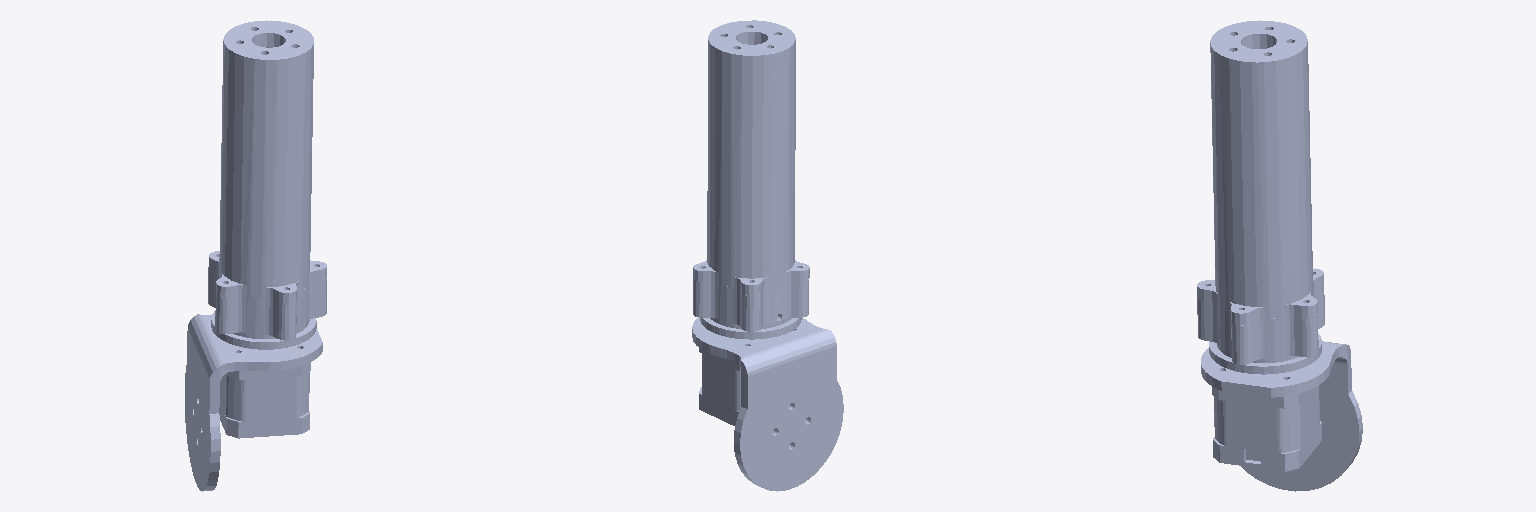
The robot description file, URDF, robot "six_dof_arm":
<?xml version="1.0" encoding="utf-8"?>
<!-- This URDF was automatically created by SolidWorks to URDF Exporter! Originally created by [author] ([email redacted]) 
     Commit Version: 1.6.0-1-g15f4949  Build Version: 1.6.7594.29634
     For more information, please see http://wiki.ros.org/sw_urdf_exporter -->
<robot
  name="six_dof_arm">

  <link name="world"/>
  <joint name="world_to_base" type="fixed">
  <parent link="world"/>
  <child link="base_link"/>
  </joint>
  <!-- ================================== bl ================================== -->
  <link
    name="base_link">
    <!-- ============================================= OG ================ -->
    <inertial>
      <origin
        xyz="0.0030404383928407 0.0904610846598891 0.000313504501162996"
        rpy="0 0 0" />
      <mass
        value="2.17387509158524" />
      <inertia
        ixx="0.00596956325220107"
        ixy="-7.23777863509948E-07"
        ixz="-3.38216714723813E-06"
        iyy="0.00952386374829906"
        iyz="-7.3243407230227E-08"
        izz="0.00600257170950743" />
        <!-- <inertia ixx="0.001" ixy="0.001" ixz="0.001" iyy="0.001" iyz="0.001" izz="0.001" /> -->
    </inertial>
<!-- ============================================================================================= -->
    <visual>
      <origin
        xyz="0 0 0"
        rpy="0 0 0" />
      <geometry>
        <mesh
          filename="package://six_dof_arm_description/meshes/base_link.STL" />
      </geometry>
      <material
        name="">
        <color
          rgba="0.792156862745098 0.819607843137255 0.933333333333333 1" />
      </material>
    </visual>
    <collision>
      <origin
        xyz="0 0 0"
        rpy="0 0 0" />
      <geometry>
        <mesh
          filename="package://six_dof_arm_description/meshes/base_link.STL" />
      </geometry>
    </collision>
  </link>
  <!-- ================================== l2 ==================================== -->
  <link
    name="link2">
    <inertial>
      <origin
        xyz="0.00107284064142489 0.0675264045015751 -0.0669970111009438"
        rpy="0 0 0" />
      <mass
        value="1.18912500313445" />
      <inertia
        ixx="0.00147658022225759"
        ixy="8.59873599046001E-07"
        ixz="7.94056013515976E-08"
        iyy="0.00185247956000573"
        iyz="-1.39402251722092E-05"
        izz="0.00235601012756757" />

         <!-- <inertia ixx="0.001" ixy="0.001" ixz="0.001" iyy="0.001" iyz="0.001" izz="0.001" /> -->
    </inertial>
    <visual>
      <origin
        xyz="0 0 0"
        rpy="0 0 0" />
      <geometry>
        <mesh
          filename="package://six_dof_arm_description/meshes/link2.STL" />
      </geometry>
      <material
        name="">
        <color
          rgba="0.792156862745098 0.819607843137255 0.933333333333333 1" />
      </material>
    </visual>
    <collision>
      <origin
        xyz="0 0 0"
        rpy="0 0 0" />
      <geometry>
        <mesh
          filename="package://six_dof_arm_description/meshes/link2.STL" />
      </geometry>
    </collision>
  </link>
  <!-- ============================= j1 =========================================== -->
  <joint
    name="j1"
    type="continuous">
    <origin
      xyz="0 0 0.174686006315903"
      rpy="1.5707963267949 0.0426156296068228 0" />
    <parent
      link="base_link" />
    <child
      link="link2" />
    <axis
      xyz="0.0426027317948625 -0.999092091472861 0" />
    <limit effort="100" velocity="3"/>
    <dynamic friction="0.5" damping="0.5"/>
  </joint>
  <!-- ================================ l3 ==================================== -->
  <link
    name="link3">
    <inertial>
      <origin
        xyz="0.0114236744744287 0.163399177403567 0.0261078392809295"
        rpy="0 0 0" />
      <mass
        value="1.14306189360077" />
      <inertia
        ixx="0.0058762414532403"
        ixy="-0.00035405925519153"
        ixz="-3.56419473090773E-06"
        iyy="0.00083768556654117"
        iyz="-5.08217739651121E-05"
        izz="0.00652044652059366" />

        <!-- <inertia ixx="0.001" ixy="0.001" ixz="0.001" iyy="0.001" iyz="0.001" izz="0.001" /> -->
    </inertial>
    <visual>
      <origin
        xyz="0 0 0"
        rpy="0 0 0" />
      <geometry>
        <mesh
          filename="package://six_dof_arm_description/meshes/link3.STL" />
      </geometry>
      <material
        name="">
        <color
          rgba="0.792156862745098 0.819607843137255 0.933333333333333 1" />
      </material>
    </visual>
    <collision>
      <origin
        xyz="0 0 0"
        rpy="0 0 0" />
      <geometry>
        <mesh
          filename="package://six_dof_arm_description/meshes/link3.STL" />
      </geometry>
    </collision>
  </link>
  <!-- =============================== j2 =============================== -->
  <joint
    name="j2"
    type="continuous">
    <origin
      xyz="-0.0038731844893234 0.0908314520939947 0"
      rpy="0 0 0.0970316625818105" />
    <parent
      link="link2" />
    <child
      link="link3" />
    <axis
      xyz="0 0 1" />
    <limit effort="100" velocity="3"/>
    <dynamic friction="0.5" damping="0.5"/>
  </joint>
  <!-- ================================== l4 ======================================== -->
  <link
    name="link4">
    <inertial>
      <origin
        xyz="0.0193236988403798 0.07732959703128 -0.000549395513287365"
        rpy="0 0 0" />
      <mass
        value="0.61252980030284" />
      <inertia
        ixx="0.000462649927544659"
        ixy="-1.64393565413698E-07"
        ixz="-2.00261054234078E-06"
        iyy="0.000462030357419234"
        iyz="-7.96467154491412E-06"
        izz="0.000794707591888277" />

      <!-- <inertia ixx="0.001" ixy="0.001" ixz="0.001" iyy="0.001" iyz="0.001" izz="0.001" /> -->
    </inertial>
    <visual>
      <origin
        xyz="0 0 0"
        rpy="0 0 0" />
      <geometry>
        <mesh
          filename="package://six_dof_arm_description/meshes/link4.STL" />
      </geometry>
      <material
        name="">
        <color
          rgba="0.792156862745098 0.819607843137255 0.933333333333333 1" />
      </material>
    </visual>
    <collision>
      <origin
        xyz="0 0 0"
        rpy="0 0 0" />
      <geometry>
        <mesh
          filename="package://six_dof_arm_description/meshes/link4.STL" />
      </geometry>
    </collision>
  </link>
  <!-- ============================= j3 =================================== -->
  <joint
    name="j3"
    type="continuous">
    <origin
      xyz="0.0168940922077327 0.241596753679048 0.0825666966679422"
      rpy="1.57079632679489 -0.244898727708224 3.07346880235245" />
    <parent
      link="link3" />
    <child
      link="link4" />
    <axis
      xyz="0.242458075514665 0.970161884232588 0" />
    <limit effort="100" velocity="3"/>
    <dynamic friction="0.5" damping="0.5"/>
  </joint>
  <!-- ================================== l5 =============================== -->
  <link
    name="link5">
    <inertial>
      <origin
        xyz="-3.17124127398871E-05 0.102065429293058 -0.0247359805949385"
        rpy="0 0 0" />
      <mass
        value="0.421807198945127" />
      <inertia
        ixx="0.00152671792744635"
        ixy="-6.57625180718517E-07"
        ixz="-4.70040935086078E-09"
        iyy="0.000301057192083679"
        iyz="0.000151301712593328"
        izz="0.00164383945946938" />

      <!-- <inertia ixx="0.001" ixy="0.001" ixz="0.001" iyy="0.001" iyz="0.001" izz="0.001" /> -->
    </inertial>
    <visual>
      <origin
        xyz="0 0 0"
        rpy="0 0 0" />
      <geometry>
        <mesh
          filename="package://six_dof_arm_description/meshes/link5.STL" />
      </geometry>
      <material
        name="">
        <color
          rgba="0.792156862745098 0.819607843137255 0.933333333333333 1" />
      </material>
    </visual>
    <collision>
      <origin
        xyz="0 0 0"
        rpy="0 0 0" />
      <geometry>
        <mesh
          filename="package://six_dof_arm_description/meshes/link5.STL" />
      </geometry>
    </collision>
  </link>
  <!-- ================================== j4 ================================ -->
  <joint
    name="j4"
    type="continuous">
    <origin
      xyz="0.0213489938284647 0.0854249957858847 0.0409204327532362"
      rpy="1.57079632679489 0 0.988449271710427" />
    <parent
      link="link4" />
    <child
      link="link5" />
    <axis
      xyz="0 1 0" />
    <limit effort="100" velocity="3"/>
    <dynamic friction="0.5" damping="0.5"/>
  </joint>
  <!-- ================================ l6 ================================ -->
  <link
    name="link6">
    <inertial>
      <origin
        xyz="-0.0556558937182977 -0.0461132946915521 -0.0710677455670224"
        rpy="0 0 0" />
      <mass
        value="0.215680416600799" />
      <inertia
        ixx="0.000198781942718578"
        ixy="6.69115319269877E-07"
        ixz="-5.98891372297362E-06"
        iyy="0.000198528715740285"
        iyz="-4.96211948057244E-06"
        izz="8.50577011664286E-05" />

      <!-- <inertia ixx="0.001" ixy="0.001" ixz="0.001" iyy="0.001" iyz="0.001" izz="0.001" /> -->
    </inertial>
    <visual>
      <origin
        xyz="0 0 0"
        rpy="0 0 0" />
      <geometry>
        <mesh
          filename="package://six_dof_arm_description/meshes/link6.STL" />
      </geometry>
      <material
        name="">
        <color
          rgba="0.792156862745098 0.819607843137255 0.933333333333333 1" />
      </material>
    </visual>
    <collision>
      <origin
        xyz="0 0 0"
        rpy="0 0 0" />
      <geometry>
        <mesh
          filename="package://six_dof_arm_description/meshes/link6.STL" />
      </geometry>
    </collision>
  </link>
  <!-- ================================== j5 =============================================== -->
  <joint
    name="j5"
    type="continuous">
    <origin
      xyz="0 0.189079567246762 0.00454807694118021"
      rpy="1.5707963267949 -0.878892097653013 -0.0204270299568086" />
    <parent
      link="link5" />
    <child
      link="link6" />
    <axis
      xyz="0.770032504774587 0.638004656401954 0" />
    <limit effort="100" velocity="3"/>
    <dynamic friction="0.5" damping="0.5"/>
  </joint>
  <!-- ================================== end_eff ====================================== -->
  <!-- <link
    name="end_eff">
    <inertial>
      <origin
        xyz="4.85722573273506E-16 0.00961333296810962 -3.05311331771918E-16"
        rpy="0 0 0" />
      <mass
        value="0.0207904558451663" />
      <inertia
        ixx="6.15415573695005E-06"
        ixy="-1.98523347012727E-23"
        ixz="2.11758236813575E-21"
        iyy="7.27907189246373E-06"
        iyz="7.94093388050907E-23"
        izz="4.00067538234834E-06" /> -->

      <!-- <inertia ixx="0.001" ixy="0.001" ixz="0.001" iyy="0.001" iyz="0.001" izz="0.001" /> -->
    <!-- </inertial>
    <visual>
      <origin
        xyz="0 0 0"
        rpy="0 0 0" />
      <geometry>
        <mesh
          filename="package://six_dof_arm_description/meshes/end_eff.STL" />
      </geometry>
      <material
        name="">
        <color
          rgba="0.792156862745098 0.819607843137255 0.933333333333333 1" />
      </material>
    </visual>
    <collision>
      <origin
        xyz="0 0 0"
        rpy="0 0 0" />
      <geometry>
        <mesh
          filename="package://six_dof_arm_description/meshes/end_eff.STL" />
      </geometry>
    </collision>
  </link> -->
  <!-- ==================================== j6 ==================================== -->
  <!-- <joint
    name="j6"
    type="continuous">
    <origin
      xyz="-0.058334 -0.048332 -0.20453"
      rpy="-1.5708 0 -0.18829" />
    <parent
      link="link6" />
    <child
      link="end_eff" />
    <axis
      xyz="0 1 0" />
  </joint> -->


<transmission name="trans_j1">
        <type>transmission_interface/SimpleTransmission</type>
        <joint name="j1">
            <hardwareInterface>hardware_interface/EffortJointInterface</hardwareInterface>
        </joint>
        <actuator name="j1_motor">
            <hardwareInterface>hardware_interface/EffortJointInterface</hardwareInterface>
            <mechanicalReduction>1</mechanicalReduction>
        </actuator>
    </transmission>
    <transmission name="trans_j2">
        <type>transmission_interface/SimpleTransmission</type>
        <joint name="j2">
            <hardwareInterface>hardware_interface/EffortJointInterface</hardwareInterface>
        </joint>
        <actuator name="j2_motor">
            <hardwareInterface>hardware_interface/EffortJointInterface</hardwareInterface>
            <mechanicalReduction>1</mechanicalReduction>
        </actuator>
    </transmission>
    <transmission name="trans_j3">
        <type>transmission_interface/SimpleTransmission</type>
        <joint name="j3">
            <hardwareInterface>hardware_interface/EffortJointInterface</hardwareInterface>
        </joint>
        <actuator name="j3_motor">
            <hardwareInterface>hardware_interface/EffortJointInterface</hardwareInterface>
            <mechanicalReduction>1</mechanicalReduction>
        </actuator>
    </transmission>
    <transmission name="trans_j4">
        <type>transmission_interface/SimpleTransmission</type>
        <joint name="j4">
            <hardwareInterface>hardware_interface/EffortJointInterface</hardwareInterface>
        </joint>
        <actuator name="j4_motor">
            <hardwareInterface>hardware_interface/EffortJointInterface</hardwareInterface>
            <mechanicalReduction>1</mechanicalReduction>
        </actuator>
    </transmission>
    <transmission name="trans_j5">
        <type>transmission_interface/SimpleTransmission</type>
        <joint name="j5">
            <hardwareInterface>hardware_interface/EffortJointInterface</hardwareInterface>
        </joint>
        <actuator name="j5_motor">
            <hardwareInterface>hardware_interface/EffortJointInterface</hardwareInterface>
            <mechanicalReduction>1</mechanicalReduction>
        </actuator>
    </transmission>
    <!-- <transmission name="trans_j6">
        <type>transmission_interface/SimpleTransmission</type>
        <joint name="j6">
            <hardwareInterface>hardware_interface/EffortJointInterface</hardwareInterface>
        </joint>
        <actuator name="j6_motor">
            <hardwareInterface>hardware_interface/EffortJointInterface</hardwareInterface>
            <mechanicalReduction>1</mechanicalReduction>
        </actuator>
    </transmission> -->

<!-- ==================================== GAZEBO TAGS ======================================= -->
    <gazebo>
        <plugin name="gazebo_ros_control" filename="libgazebo_ros_control.so">
            <robotNamespace>/six_dof_arm</robotNamespace>
            <robotParam>six_dof_arm/robot_description</robotParam>
        </plugin>
    </gazebo>

    <gazebo reference="base_link">
        <mu1>0.01</mu1>
        <mu2>0.01</mu2>
        <material>Gazebo/Gray</material>
        <selfCollide>true</selfCollide>
        <gravity>true</gravity>
        <minDepth>0.01</minDepth>
    </gazebo>

    <gazebo reference="link2">
        <mu1>0.01</mu1>
        <mu2>0.01</mu2>
        <material>Gazebo/White</material>
        <selfCollide>true</selfCollide>
        <gravity>true</gravity>
        <minDepth>0.01</minDepth>
    </gazebo>

    <gazebo reference="link3">
        <mu1>0.01</mu1>
        <mu2>0.01</mu2>
        <material>Gazebo/Gray</material>
        <selfCollide>true</selfCollide>
        <gravity>true</gravity>
        <minDepth>0.01</minDepth>
    </gazebo>

    <gazebo reference="link4">
        <mu1>0.01</mu1>
        <mu2>0.01</mu2>
        <material>Gazebo/White</material>
        <selfCollide>true</selfCollide>
        <gravity>true</gravity>
        <minDepth>0.01</minDepth>
    </gazebo>

    <gazebo reference="link5">
        <mu1>0.01</mu1>
        <mu2>0.01</mu2>
        <material>Gazebo/Blue</material>
        <selfCollide>true</selfCollide>
        <gravity>true</gravity>
        <minDepth>0.01</minDepth>
    </gazebo>

    <gazebo reference="link6">
        <mu1>0.01</mu1>
        <mu2>0.01</mu2>
        <material>Gazebo/Gray</material>
        <selfCollide>true</selfCollide>
        <gravity>true</gravity>
        <minDepth>0.01</minDepth>
    </gazebo>

    <!-- <gazebo reference="end_eff">
        <mu1>0.01</mu1>
        <mu2>0.01</mu2>
        <material>Gazebo/White</material>
        <selfCollide>true</selfCollide>
        <gravity>true</gravity>
        <minDepth>0.01</minDepth>
    </gazebo> -->

</robot>

--- Render facts (derived) ---
Views: 3 orthographic renders of the robot side by side, from view 1: azimuth 30°, elevation 25°; view 2: azimuth 150°, elevation 25°; view 3: azimuth 270°, elevation 25°.
Robot: six_dof_arm — 7 links, 6 joints (5 continuous, 1 fixed); root link world; default pose: all joints at 0.
Visible links, largest first — view 1: link6; view 2: link6; view 3: link6.
Boxes of the visible links, box(x1,y1,x2,y2) form: link6: box(185, 20, 326, 491); link6: box(692, 20, 843, 491); link6: box(1197, 20, 1362, 491).
Size in the robot's own frame: 0.0725 by 0.0763 by 0.241 metres.
1 mesh visuals loaded from 6 distinct referenced files (1 binary STL); not drawn: 5 (reference not matched to a file when rendering).